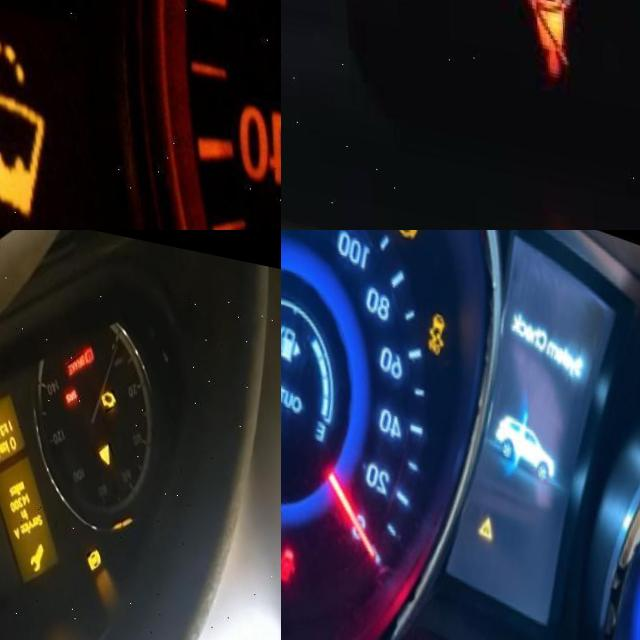Central Warning lamp: (469, 495, 496, 535)
Doors: (281, 532, 299, 590)
Seat Belt: (525, 0, 572, 68)
Washer Fluid: (0, 18, 50, 217)
